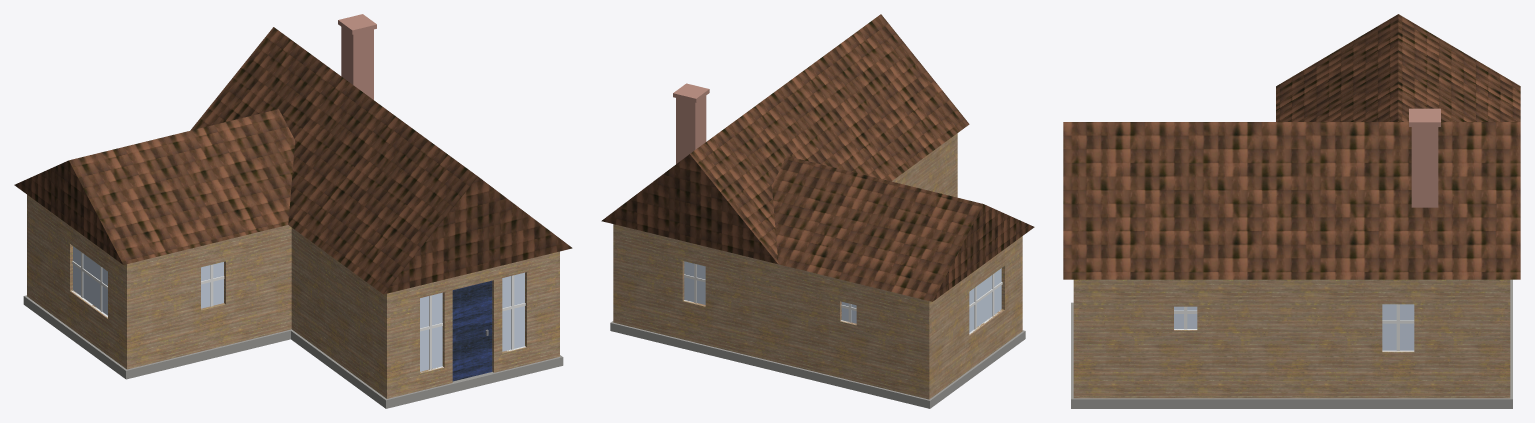
File: house15.glb
The picture shows the model from 3 angles, left to right: view 1: azimuth 30°, elevation 25°; view 2: azimuth 150°, elevation 25°; view 3: azimuth 270°, elevation 25°; orthographic projection. The views are drawn at different scales.
Parts seen in each view (by area): view 1: roof01, house15, wall25, wall27, wall24, wall01, door01, wall26, wall03, wall02, wall28, wall04 (+14 smaller); view 2: roof01, house15, wall13, wall15, wall19, wall16, wall17, wall20, wall18, wall14, wall12, wall21 (+10 smaller); view 3: roof01, wall08, wall05, wall07, wall09, wall11, wall06, house15, wall10, wall04, wall12, komin01 (+2 smaller).
Part boxes in pixels (x1,y1,x2,y2): roof01: [14, 27, 572, 294]; house15: [23, 295, 563, 408]; wall25: [151, 248, 192, 363]; wall27: [234, 228, 275, 343]; wall24: [112, 257, 151, 369]; wall01: [372, 287, 411, 398]; door01: [452, 280, 492, 381]; wall26: [193, 238, 233, 353]; wall03: [492, 257, 535, 372]; wall02: [411, 277, 452, 392]; wall28: [275, 225, 301, 335]; wall04: [535, 251, 559, 362]; roof01: [601, 14, 1034, 301]; house15: [610, 321, 1025, 408]; wall13: [636, 229, 674, 337]; wall15: [713, 248, 751, 356]; wall19: [867, 286, 905, 393]; wall16: [752, 258, 790, 365]; wall17: [790, 267, 828, 374]; wall20: [906, 295, 942, 399]; wall18: [829, 277, 867, 384]; wall14: [675, 239, 713, 346]; wall12: [613, 224, 636, 327]; wall21: [942, 278, 964, 389]; roof01: [1063, 14, 1520, 279]; wall08: [1265, 279, 1318, 398]; wall05: [1105, 279, 1158, 398]; wall07: [1212, 279, 1265, 398]; wall09: [1318, 279, 1371, 398]; wall11: [1425, 279, 1478, 398]; wall06: [1159, 279, 1212, 398]; house15: [1071, 279, 1512, 408]; wall10: [1371, 279, 1424, 398]; wall04: [1073, 279, 1105, 398]; wall12: [1478, 279, 1510, 398]; komin01: [1409, 108, 1440, 207].
Size of the model in its own units: 8.6 by 5.55 by 8.6.
Materials: 19 (5 with a texture image).
